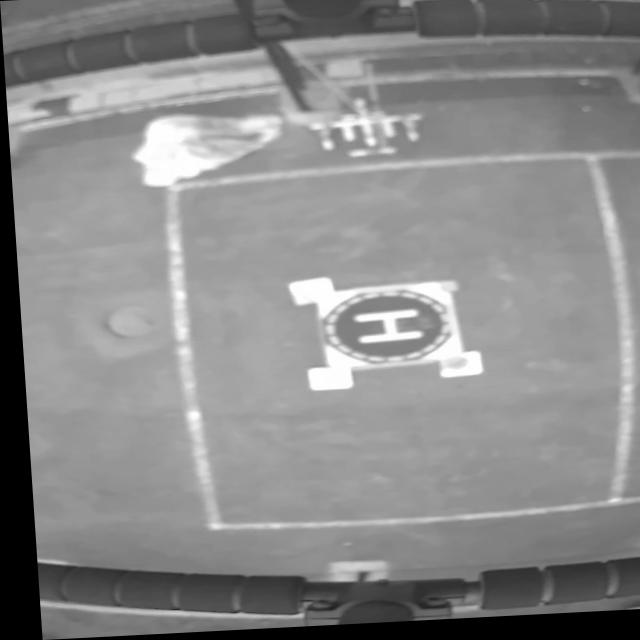Helipad: (347, 311, 420, 347)
